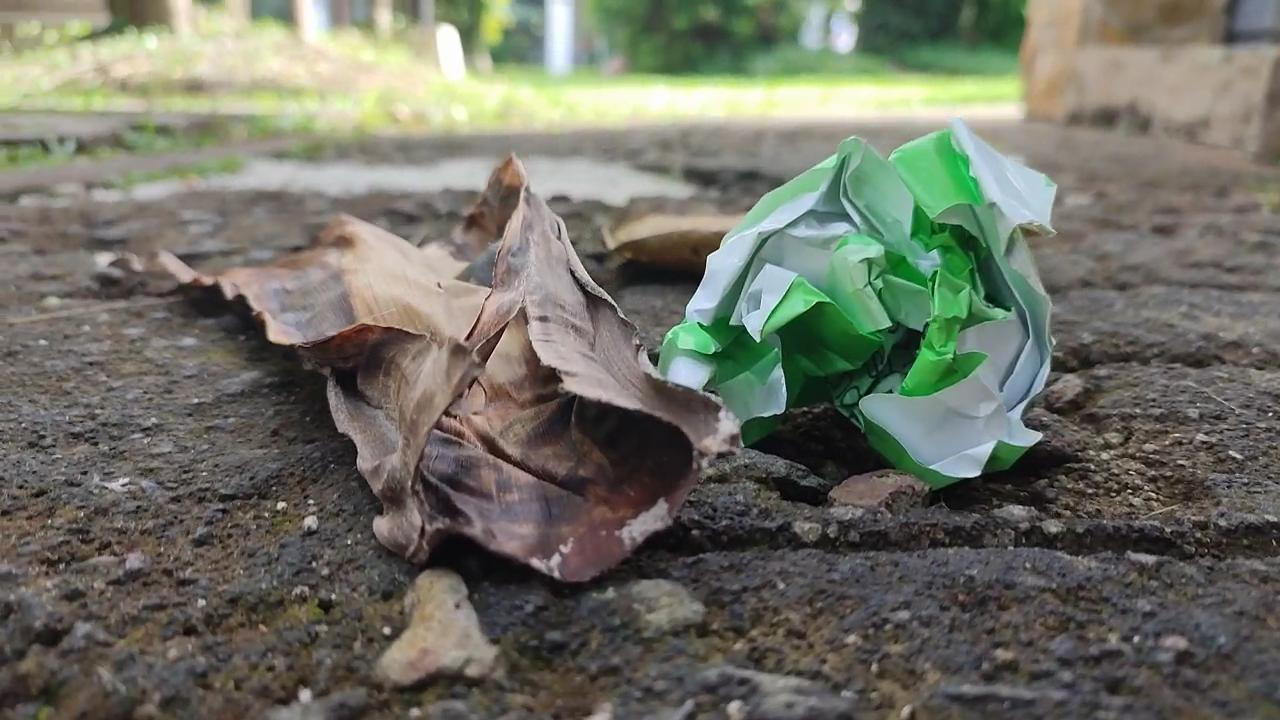Paper: (652, 112, 1068, 482)
